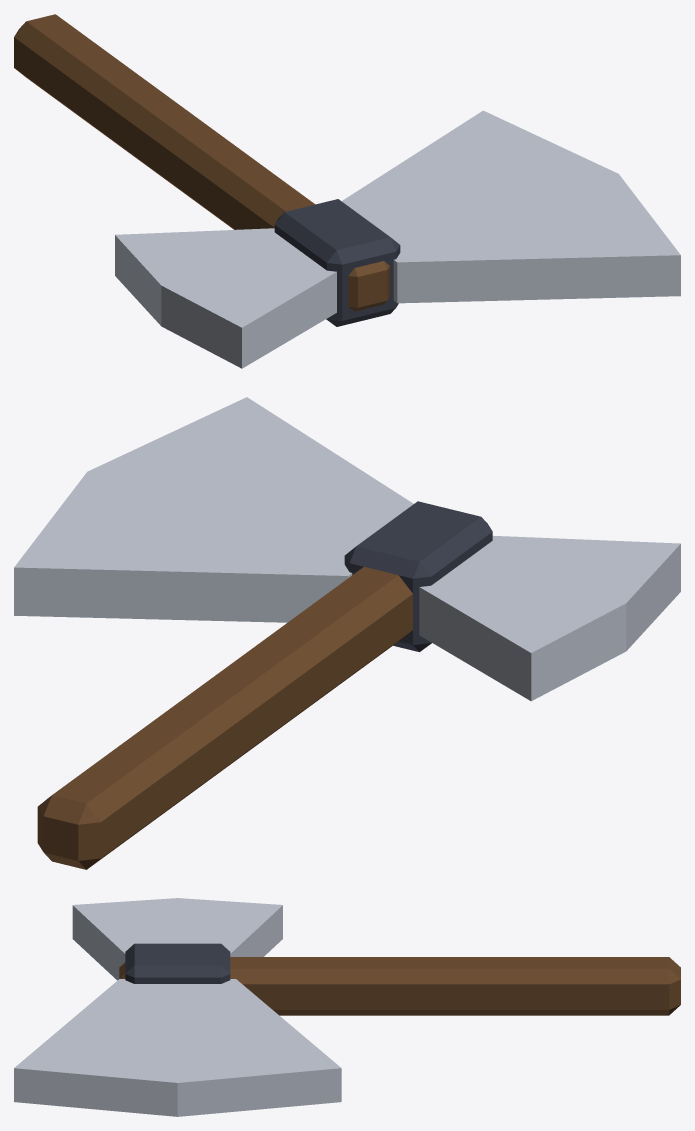
The model's file is Shot_Axe.fbx.
The picture shows the model from 3 angles, top to bottom: view 1: azimuth 30°, elevation 25°; view 2: azimuth 150°, elevation 25°; view 3: azimuth 270°, elevation 25°; orthographic projection. The views are drawn at different scales.
Visible parts, largest first — view 1: Head, Handle, Band; view 2: Head, Handle, Band; view 3: Head, Handle, Band.
Part boxes in pixels (x1=…): Head: x1=115, y1=110, x2=680, y2=368; Handle: x1=14, y1=14, x2=389, y2=311; Band: x1=274, y1=199, x2=400, y2=326; Head: x1=14, y1=397, x2=680, y2=701; Handle: x1=37, y1=567, x2=412, y2=869; Band: x1=344, y1=501, x2=492, y2=651; Head: x1=14, y1=898, x2=341, y2=1116; Handle: x1=119, y1=957, x2=680, y2=1015; Band: x1=125, y1=943, x2=230, y2=983.
Bounding box in the file's own units: 1.87 × 0.3 × 2.85.
